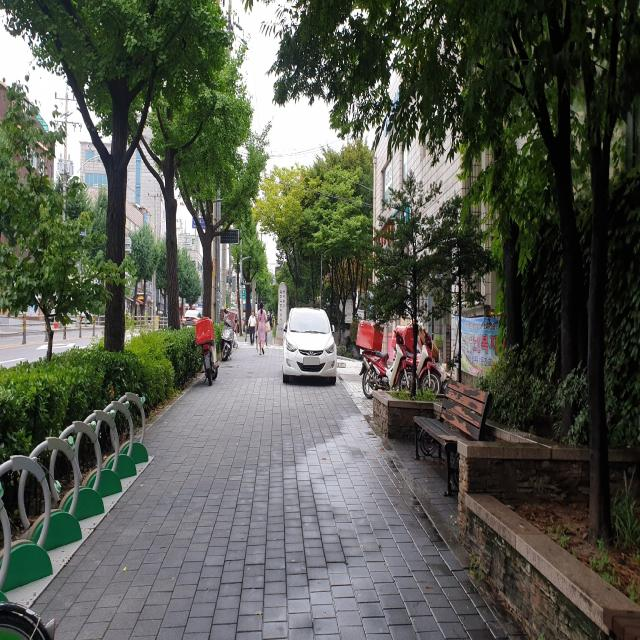car: (283, 307, 337, 385)
motorbike: (356, 319, 420, 399), (392, 325, 442, 401), (196, 317, 220, 386), (220, 308, 238, 362)
